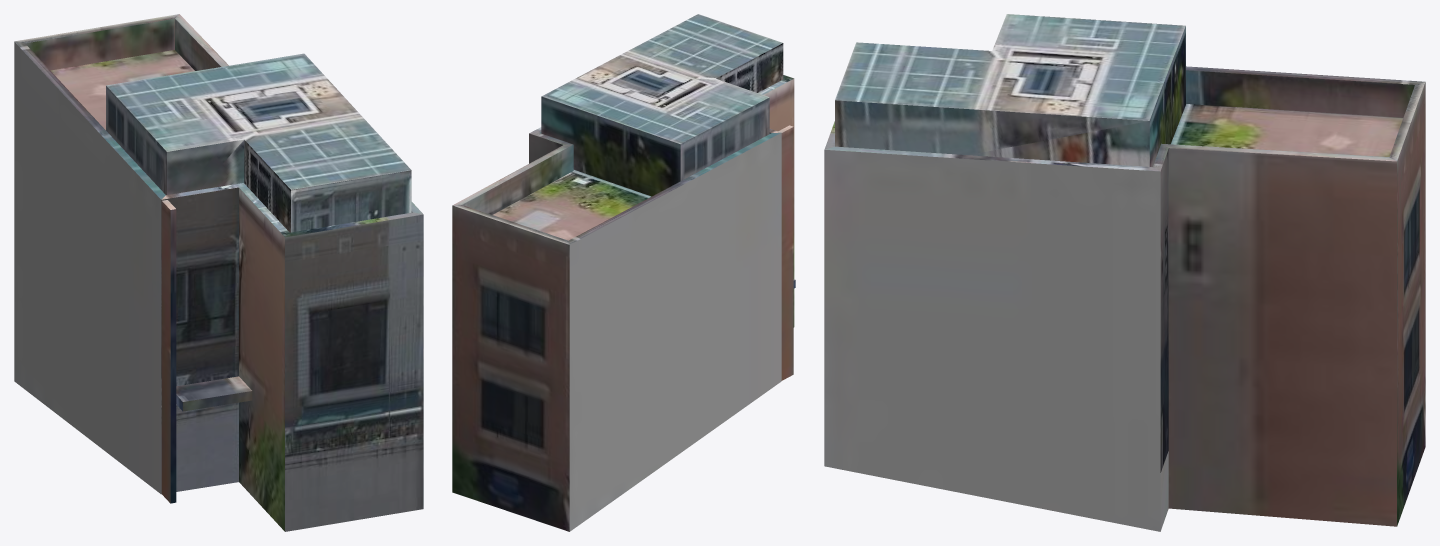
3 renders of one model, left to right at view 1: azimuth 30°, elevation 25°; view 2: azimuth 150°, elevation 25°; view 3: azimuth 270°, elevation 25°, orthographic. The views are drawn at different scales.
Parts seen in each view (by area): view 1: B280384033701063A0; view 2: B280384033701063A0; view 3: B280384033701063A0.
Part boxes in pixels (x1,y1,x2,y2): B280384033701063A0: [14, 14, 423, 531]; B280384033701063A0: [452, 14, 795, 531]; B280384033701063A0: [824, 14, 1425, 531].
Bounding box in the file's own units: 6.81 × 11.01 × 14.6.
1 material, 1 textured.
